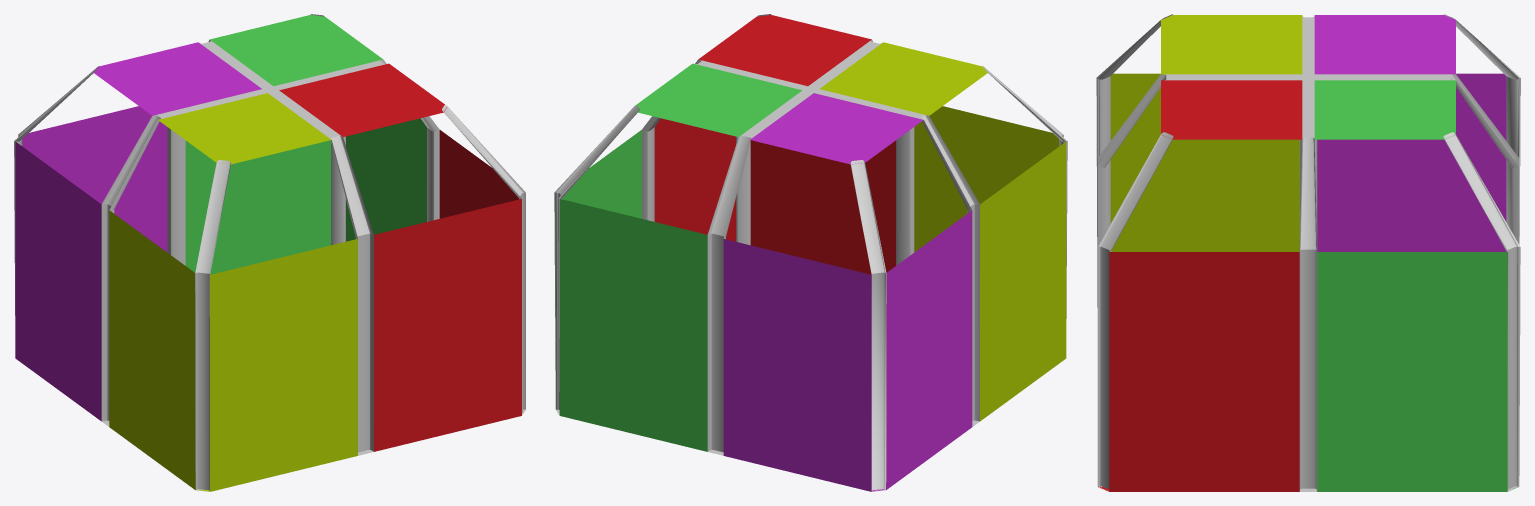
File: Cat_Lab2.fbx
3 renders of one model, left to right at view 1: azimuth 30°, elevation 25°; view 2: azimuth 150°, elevation 25°; view 3: azimuth 270°, elevation 25°, orthographic. The views are drawn at different scales.
Parts seen in each view (by area): view 1: Cat_Lab; view 2: Cat_Lab; view 3: Cat_Lab.
Part boxes in pixels (x1,y1,x2,y2): Cat_Lab: (14, 14, 525, 491); Cat_Lab: (554, 14, 1067, 491); Cat_Lab: (1096, 14, 1520, 491).
Size of the model in its own units: 458 by 391 by 458.
